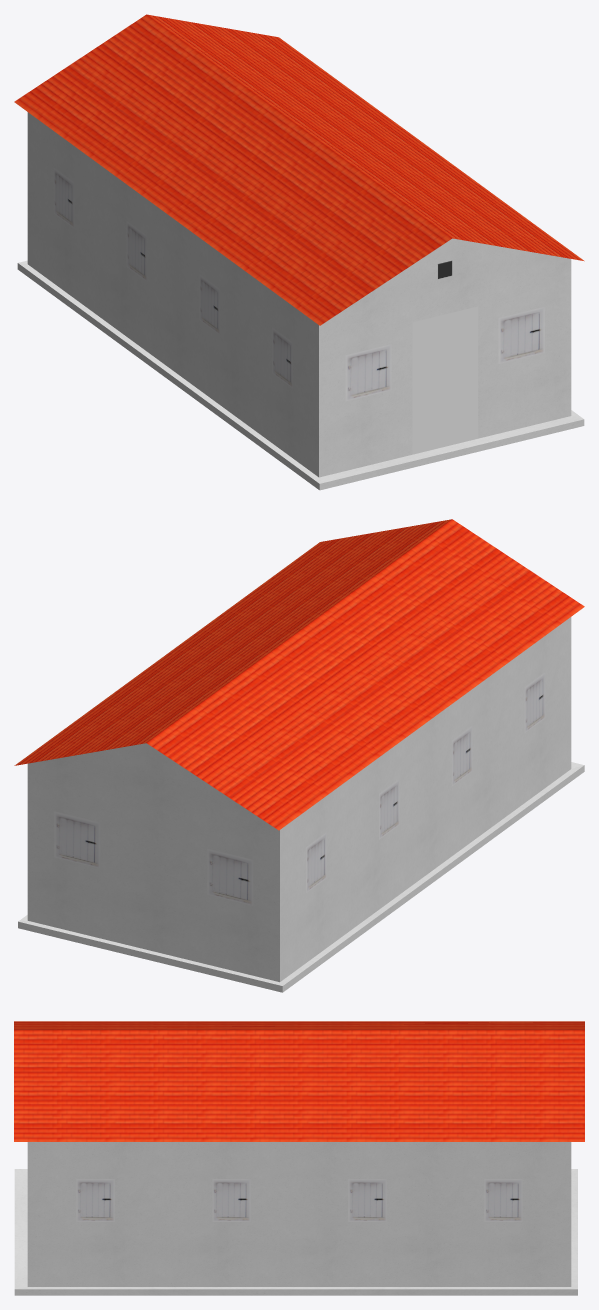
Rendered from House_Single_LOD_1.fbx.
The picture shows the model from 3 angles, top to bottom: view 1: azimuth 30°, elevation 25°; view 2: azimuth 150°, elevation 25°; view 3: azimuth 270°, elevation 25°; orthographic projection. The views are drawn at different scales.
Parts seen in each view (by area): view 1: Cube; view 2: Cube; view 3: Cube.
Boxes of the visible parts, x1,y1,x2,y2 form: Cube: (14, 14, 584, 490); Cube: (14, 519, 584, 992); Cube: (14, 1021, 584, 1295).
Size of the model in its own units: 420 by 333 by 840.
